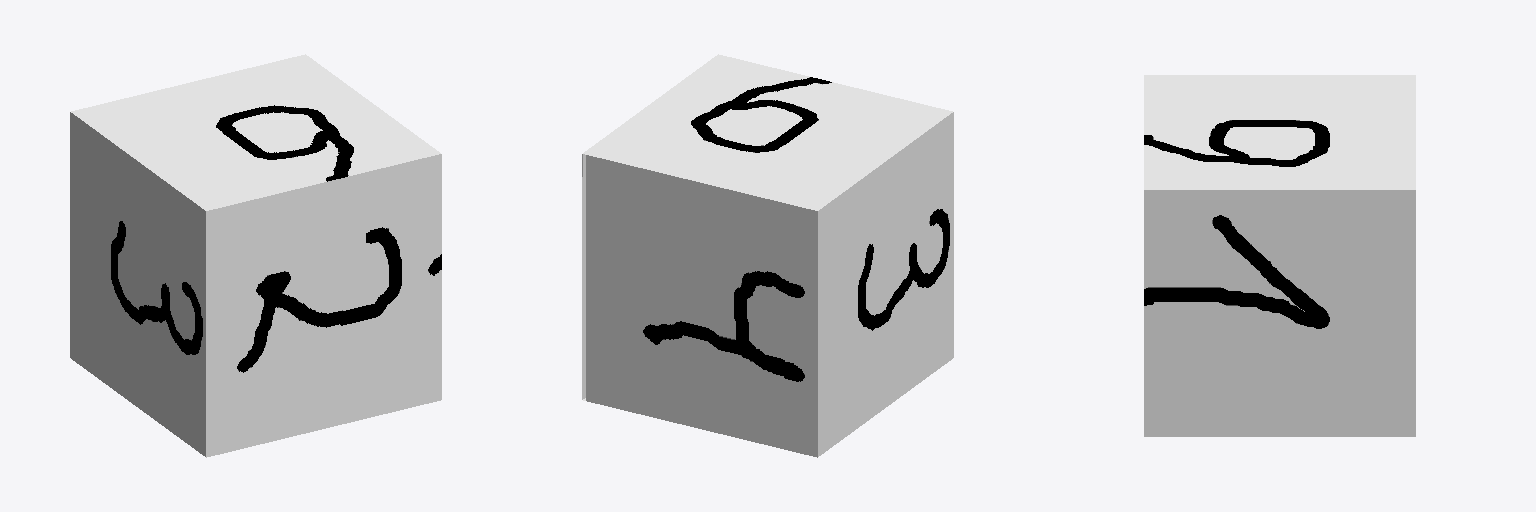
The picture shows the model from 3 angles: view 1: azimuth 30°, elevation 25°; view 2: azimuth 150°, elevation 25°; view 3: azimuth 270°, elevation 25°; orthographic projection.
Visible parts, largest first — view 1: Cube; view 2: Cube; view 3: Cube.
Part boxes in pixels (bbox=[...]): Cube: bbox=[70, 54, 441, 457]; Cube: bbox=[582, 54, 953, 457]; Cube: bbox=[1144, 75, 1415, 436].
Bounding box in the file's own units: 2 × 2 × 2.
Materials: 1 (1 with a texture image).